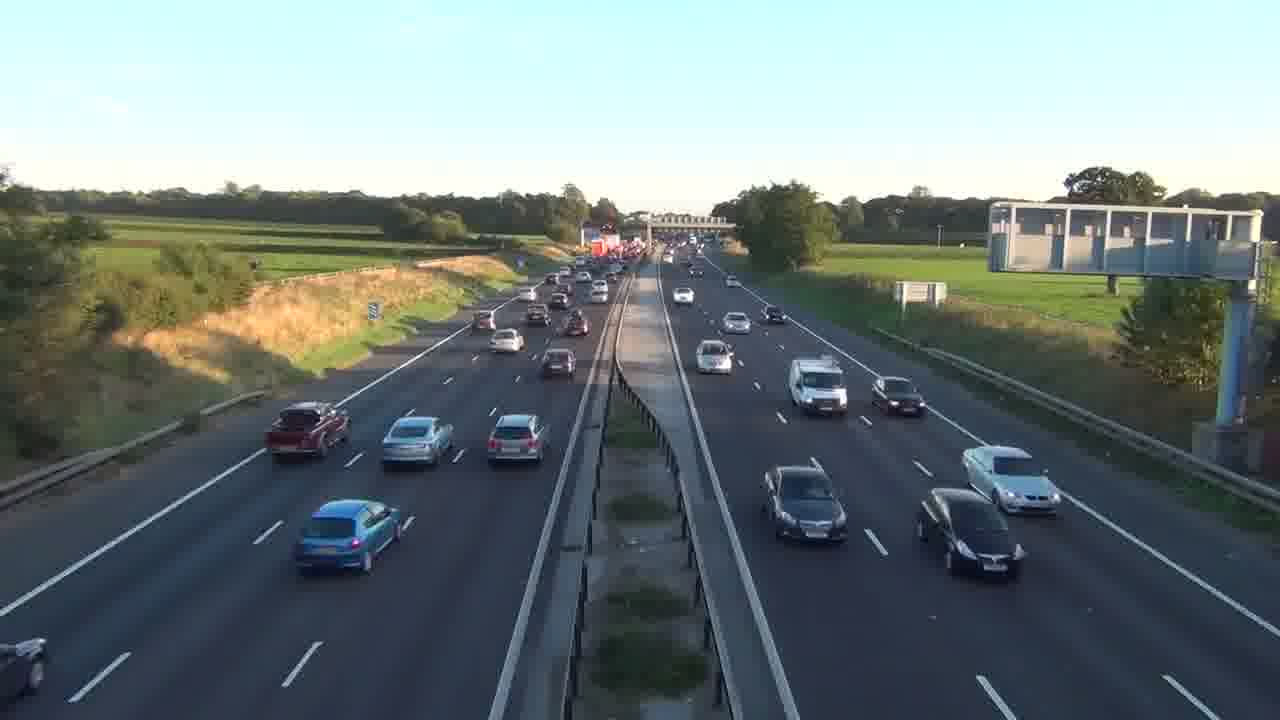car: (292, 497, 401, 576), (761, 459, 849, 544), (961, 444, 1062, 516), (380, 414, 454, 469), (485, 413, 549, 467), (870, 375, 928, 419), (695, 338, 736, 375), (721, 311, 753, 334)
truck: (920, 486, 1026, 581), (264, 402, 351, 462), (786, 357, 849, 416)
